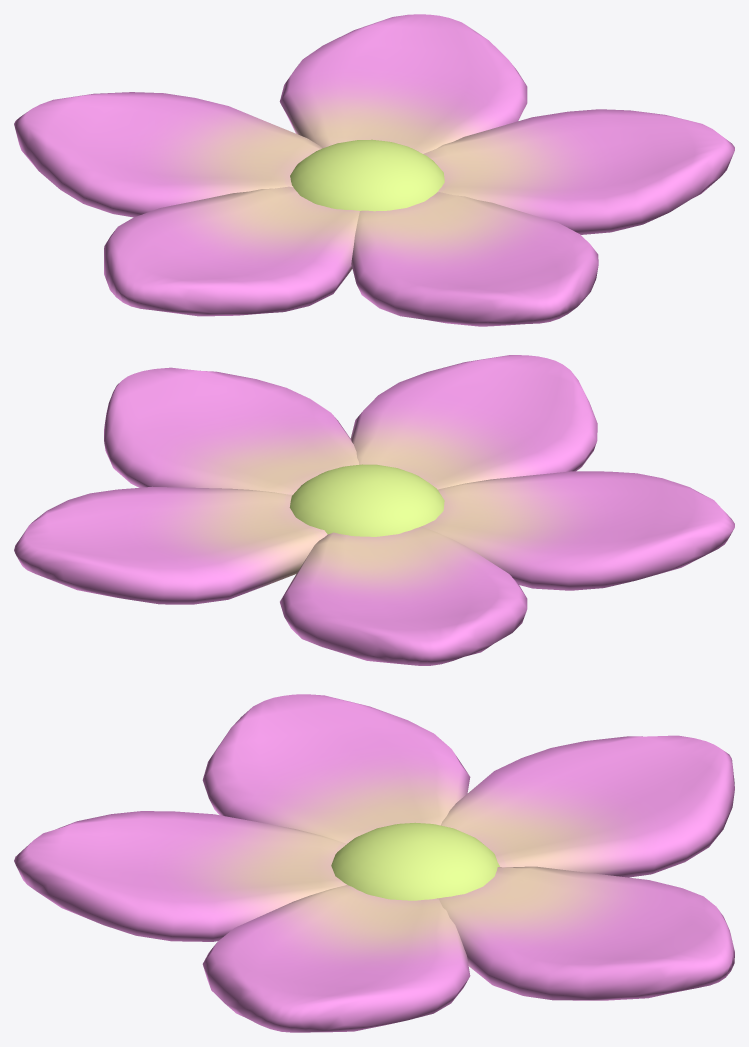
The model's file is hoa4.fbx.
3 renders of one model, top to bottom at view 1: azimuth 30°, elevation 25°; view 2: azimuth 150°, elevation 25°; view 3: azimuth 270°, elevation 25°, orthographic. The views are drawn at different scales.
Visible parts, largest first — view 1: polySurface29, polySurface89, polySurface88, polySurface25, polySurface30, polySurface26; view 2: polySurface30, polySurface88, polySurface89, polySurface29, polySurface25, polySurface26; view 3: polySurface89, polySurface25, polySurface30, polySurface29, polySurface88, polySurface26.
Part boxes in pixels (x1,y1,x2,y2): polySurface29: (423,109,734,234); polySurface89: (14,92,322,217); polySurface88: (104,186,359,316); polySurface25: (351,192,598,326); polySurface30: (279,14,527,153); polySurface26: (290,139,444,211); polySurface30: (14,486,327,604); polySurface88: (422,471,734,590); polySurface89: (280,526,527,665); polySurface29: (104,367,359,494); polySurface25: (350,355,597,489); polySurface26: (289,464,444,536); polySurface89: (440,735,734,877); polySurface25: (14,811,346,941); polySurface30: (437,866,734,1000); polySurface29: (202,884,470,1032); polySurface88: (202,694,470,843); polySurface26: (331,822,499,900).
Size of the model in its own units: 79.5 by 11.11 by 75.41.
1 material, 1 textured.
